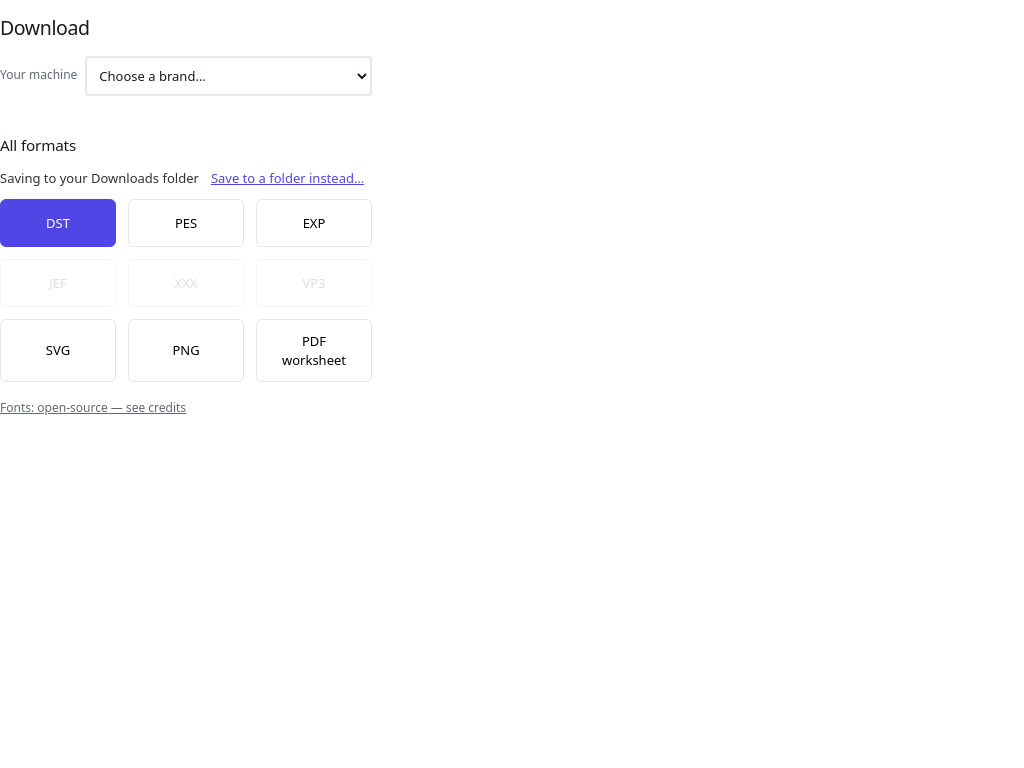
it: Go back cancels the export entirely
The image size is (1024, 768).
Click the button "DST".
click(58, 223)  # box [0,199,116,247]
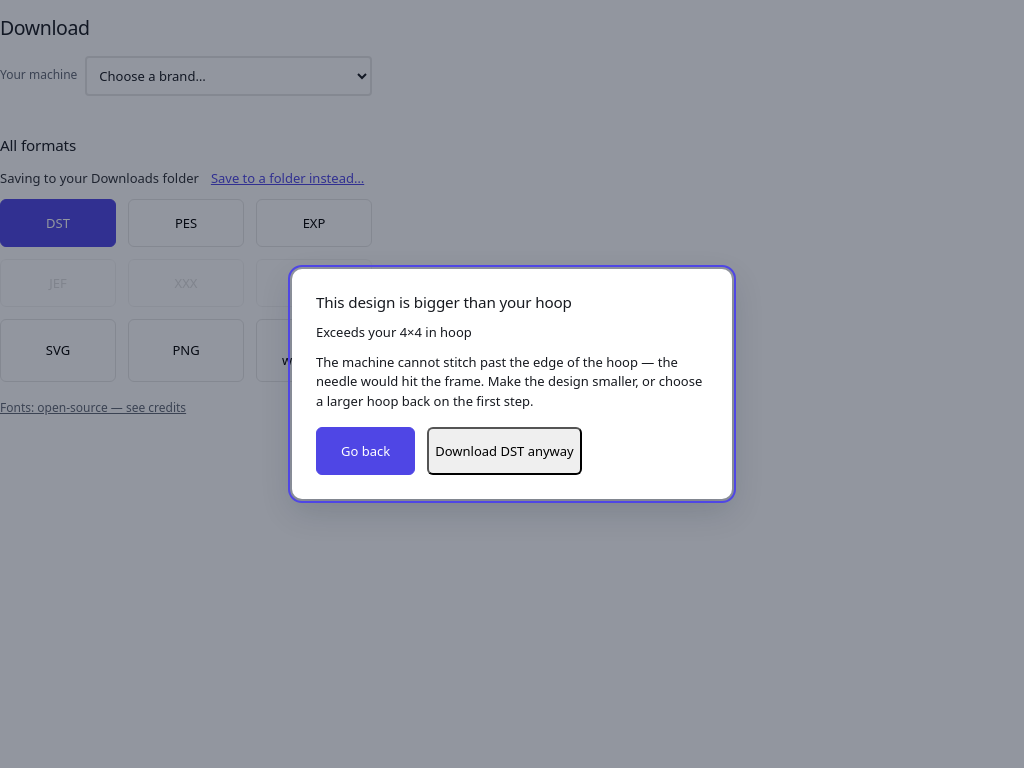
Click the button "Go back".
click(366, 452)  # box [316,428,415,476]
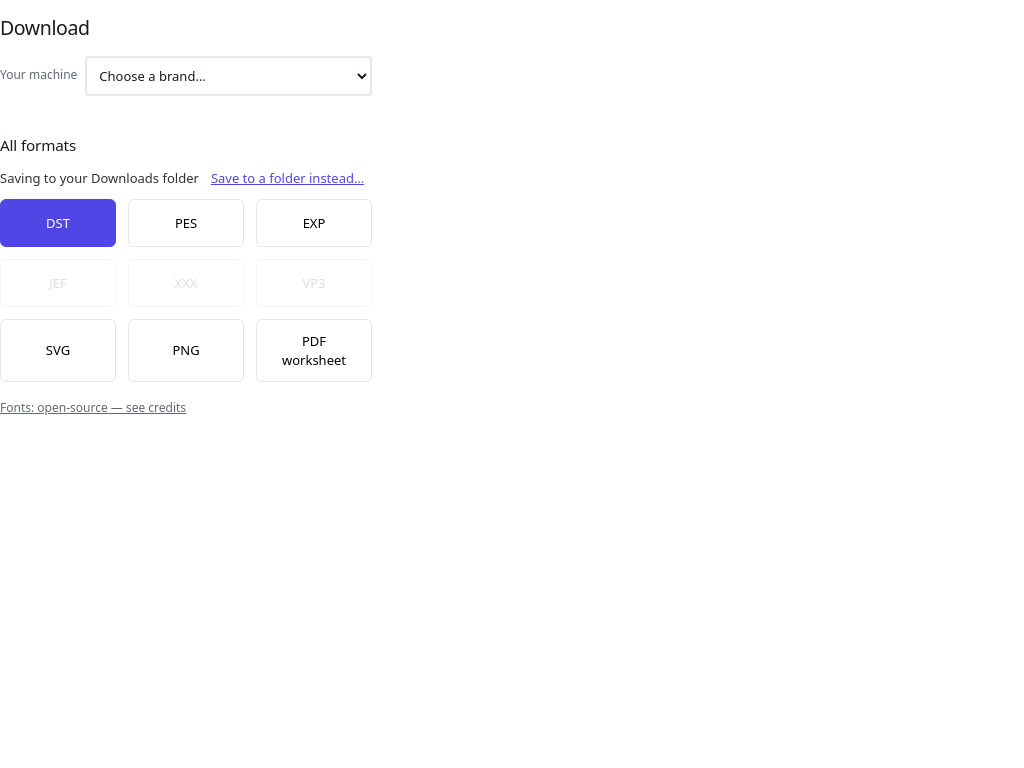
Result: the dialog is gone
